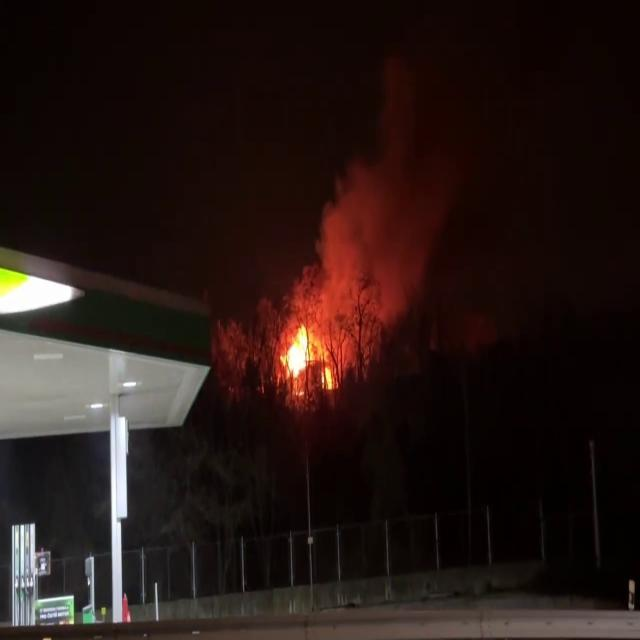Fire: (276, 314, 336, 394)
Smoke: (314, 23, 498, 330)
